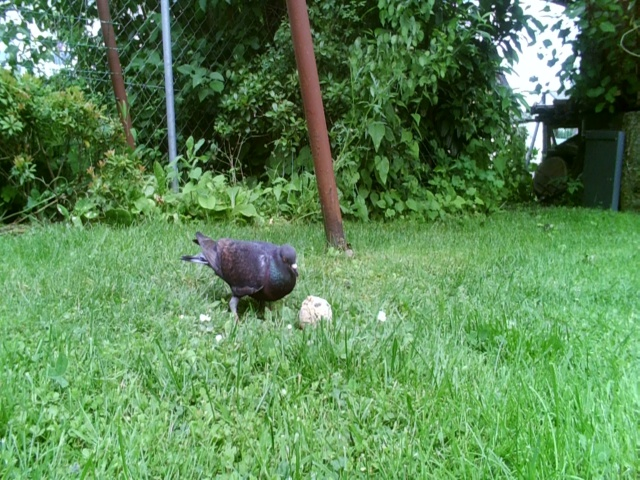Pigeon: (182, 225, 303, 318)
